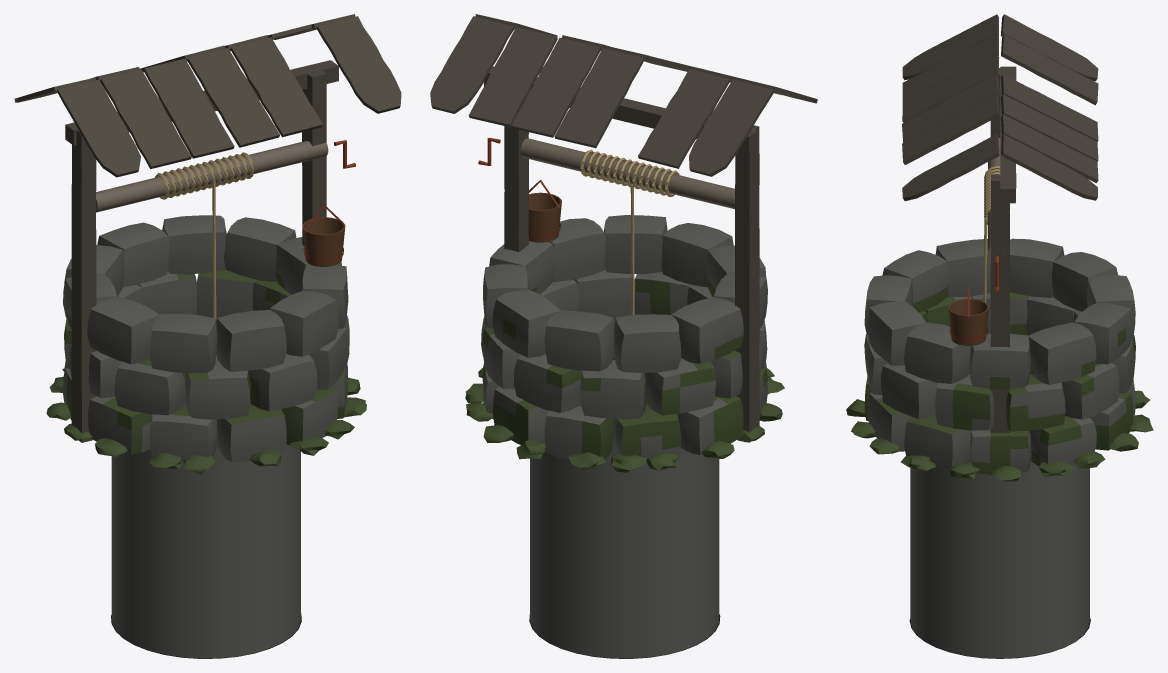
The model's file is pozo_antiguo.glb.
The picture shows the model from 3 angles, left to right: view 1: azimuth 30°, elevation 25°; view 2: azimuth 150°, elevation 25°; view 3: azimuth 270°, elevation 25°; orthographic projection. The views are drawn at different scales.
Visible parts, largest first — view 1: Pozo; view 2: Pozo; view 3: Pozo.
Part boxes in pixels (left/top/right/bottom): Pozo: left=14, top=14, right=401, bottom=658; Pozo: left=430, top=14, right=817, bottom=658; Pozo: left=846, top=14, right=1153, bottom=658.
Size of the model in its own units: 2.1 by 3.76 by 1.95.
